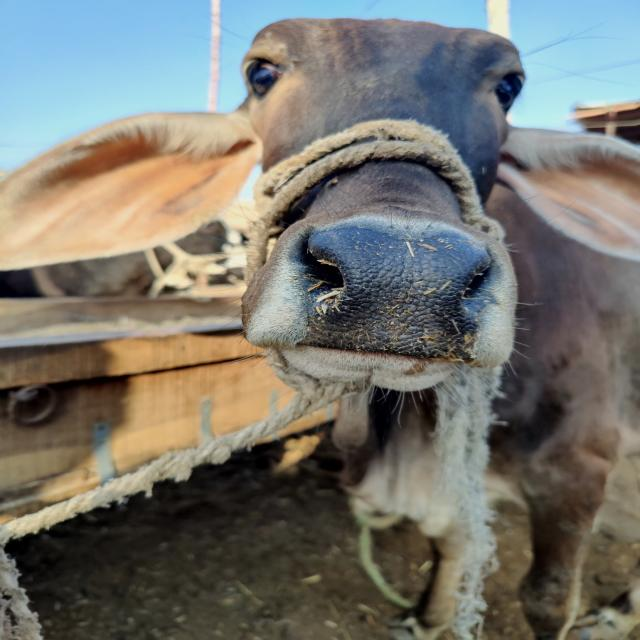muzzles: (290, 212, 500, 366)
